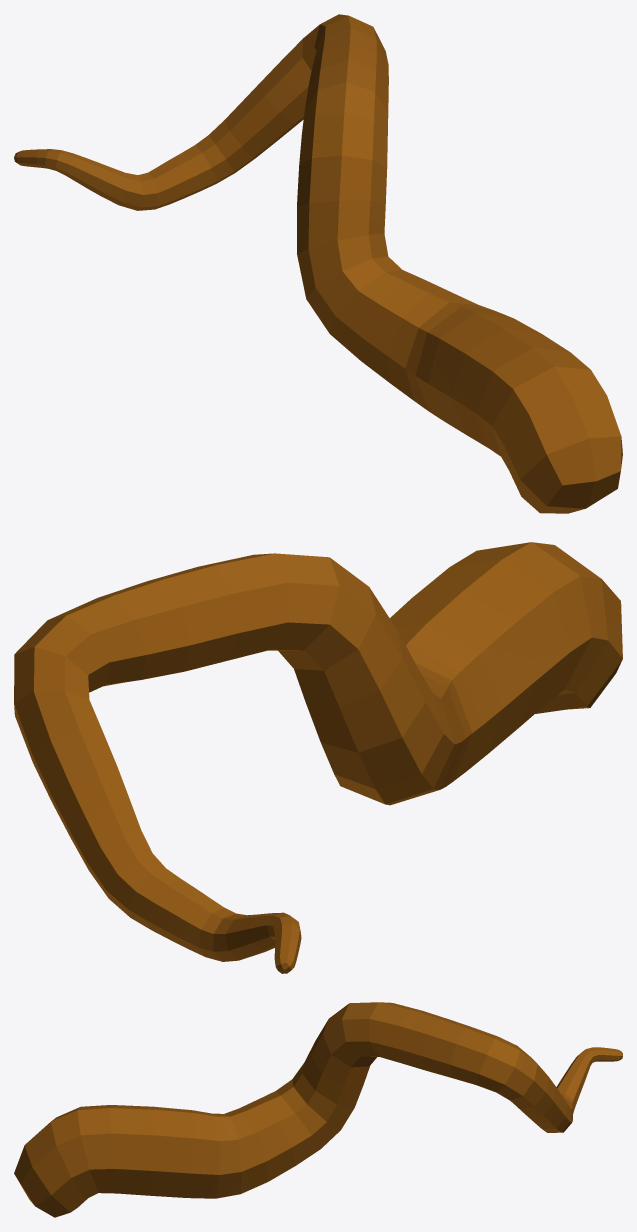
The model's file is Roots_2.fbx.
3 renders of one model, top to bottom at view 1: azimuth 30°, elevation 25°; view 2: azimuth 150°, elevation 25°; view 3: azimuth 270°, elevation 25°, orthographic. The views are drawn at different scales.
Visible parts, largest first — view 1: Plane; view 2: Plane; view 3: Plane.
Part boxes in pixels (x1,y1,x2,y2): Plane: (14,14,622,513); Plane: (14,542,622,973); Plane: (14,1002,622,1217).
Bounding box in the file's own units: 147 × 138 × 363.
